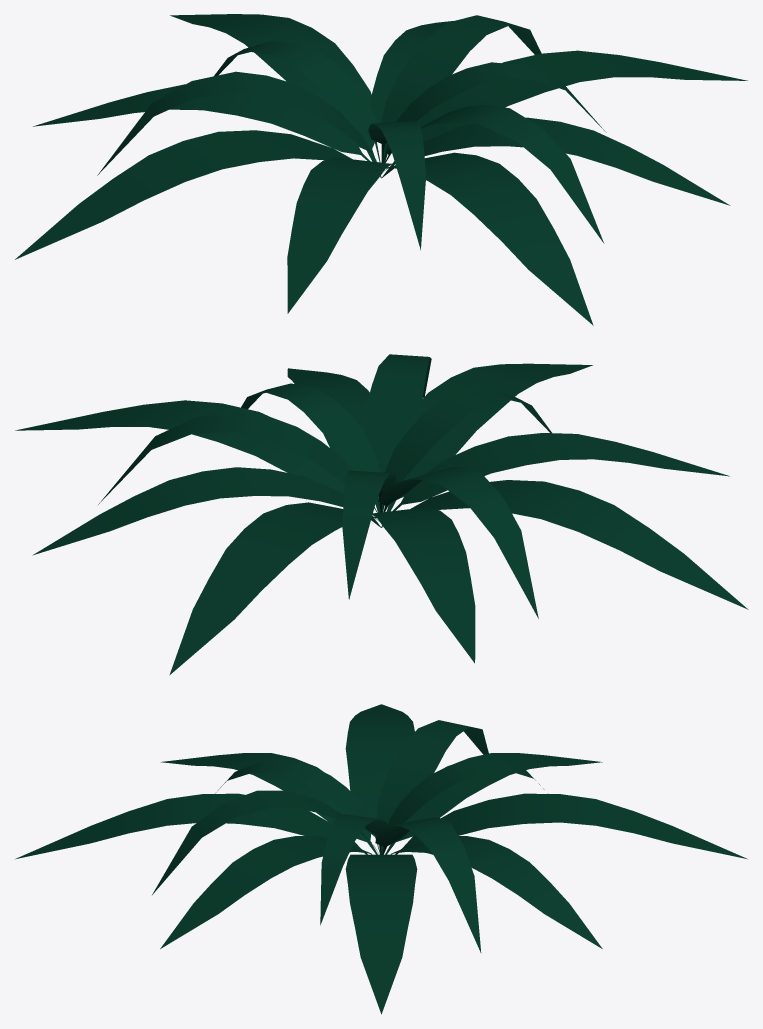
The model's file is fern2.fbx.
The picture shows the model from 3 angles, top to bottom: view 1: azimuth 30°, elevation 25°; view 2: azimuth 150°, elevation 25°; view 3: azimuth 270°, elevation 25°; orthographic projection. The views are drawn at different scales.
Parts seen in each view (by area): view 1: smallBush_low; view 2: smallBush_low; view 3: smallBush_low.
Part boxes in pixels (x1,y1,x2,y2): smallBush_low: (15,14,747,325); smallBush_low: (15,354,748,675); smallBush_low: (15,704,747,1014).
Size of the model in its own units: 62.41 by 8.11 by 62.41.
